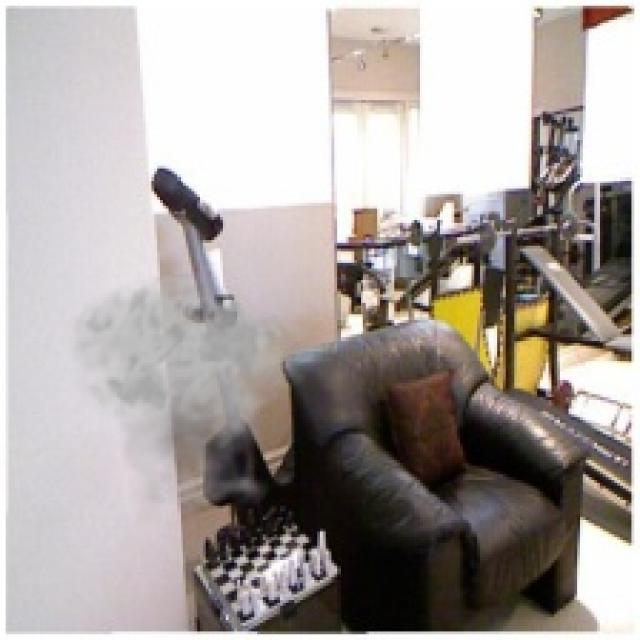smoke: (60, 268, 311, 526)
